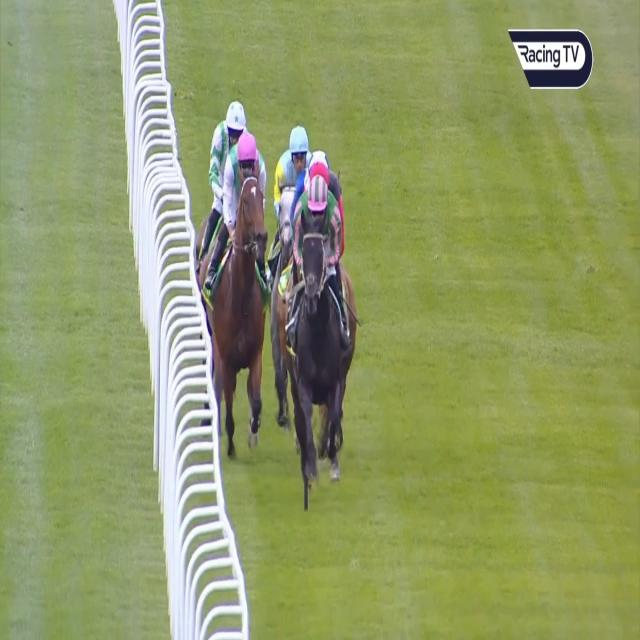horses-racing: (282, 178, 346, 502), (218, 126, 264, 427), (201, 91, 244, 251), (273, 121, 301, 186), (302, 146, 339, 182)
